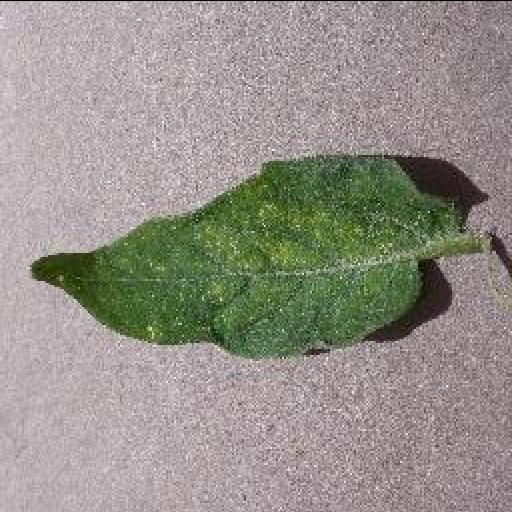disease_tomato: (25, 152, 463, 360)
